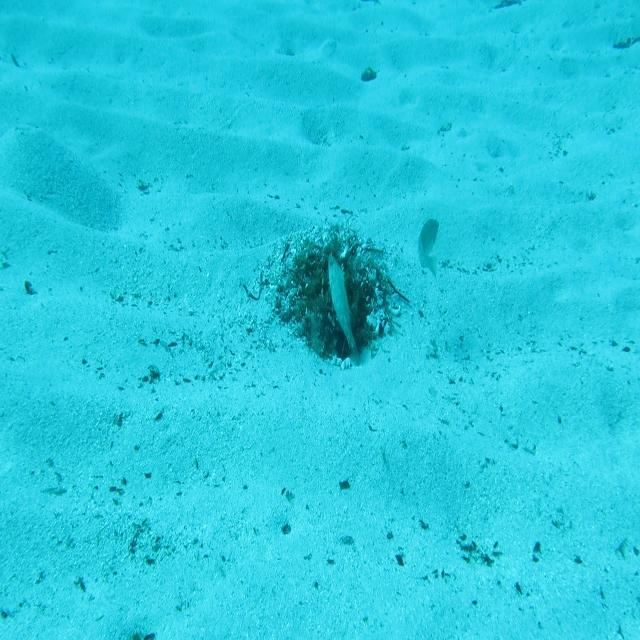ROLL: (321, 252, 367, 371)
female: (417, 212, 449, 285)
nest: (273, 232, 403, 369)
